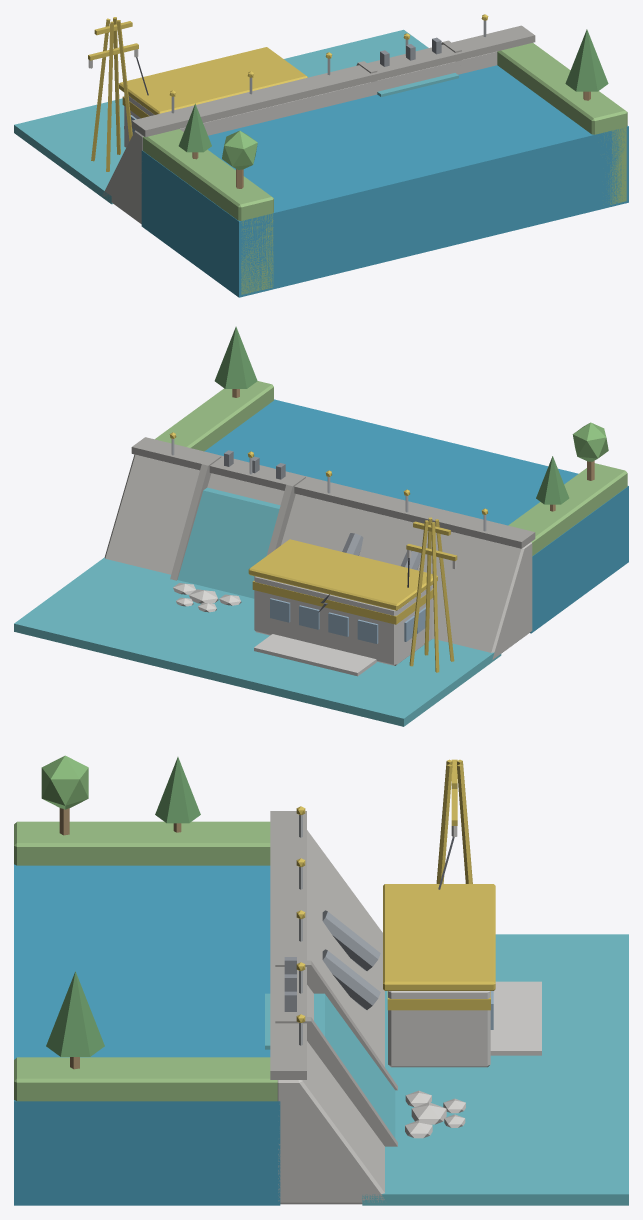
Rendered from energia__hidreletrica.glb.
The picture shows the model from 3 angles, top to bottom: view 1: azimuth 30°, elevation 25°; view 2: azimuth 150°, elevation 25°; view 3: azimuth 270°, elevation 25°; orthographic projection. The views are drawn at different scales.
Parts seen in each view (by area): view 1: energia__hidreletrica; view 2: energia__hidreletrica; view 3: energia__hidreletrica.
Boxes of the visible parts, <box> form: energia__hidreletrica: <box>14,14,628,297</box>; energia__hidreletrica: <box>14,326,628,726</box>; energia__hidreletrica: <box>14,755,628,1205</box>.
Size of the model in its own units: 6 by 2.38 by 6.
